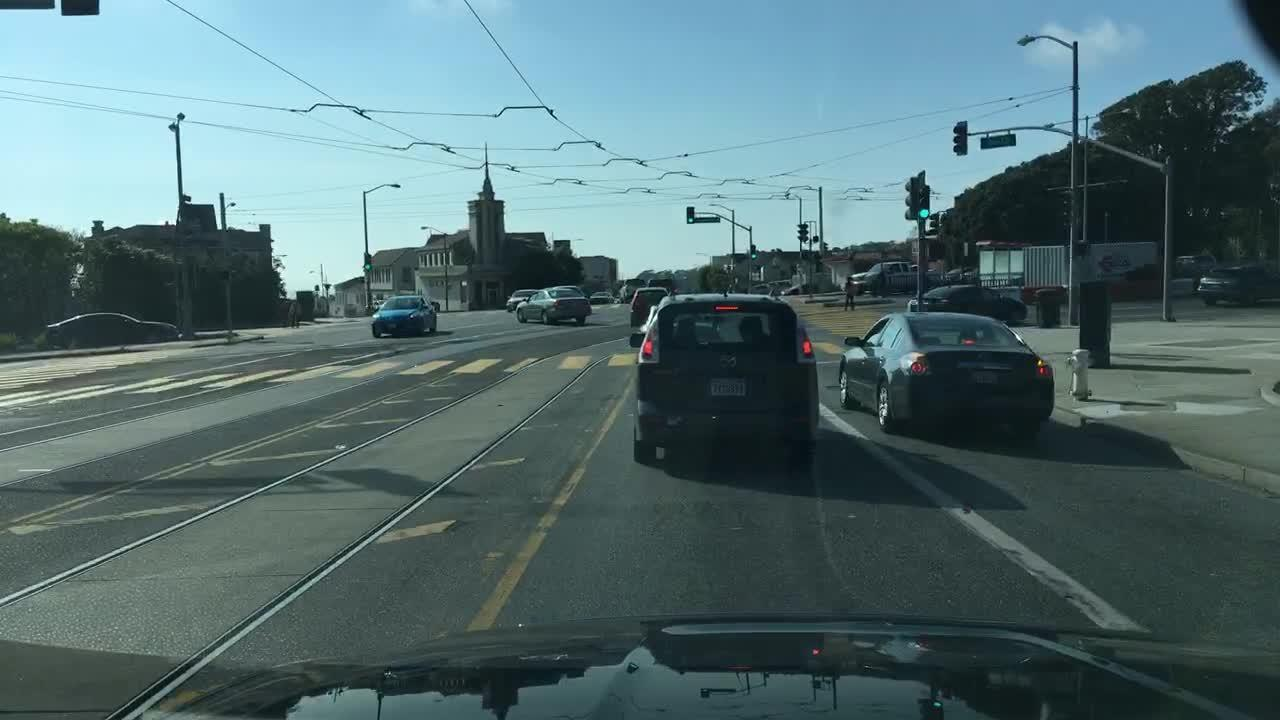Mazda: (713, 348, 741, 374)
